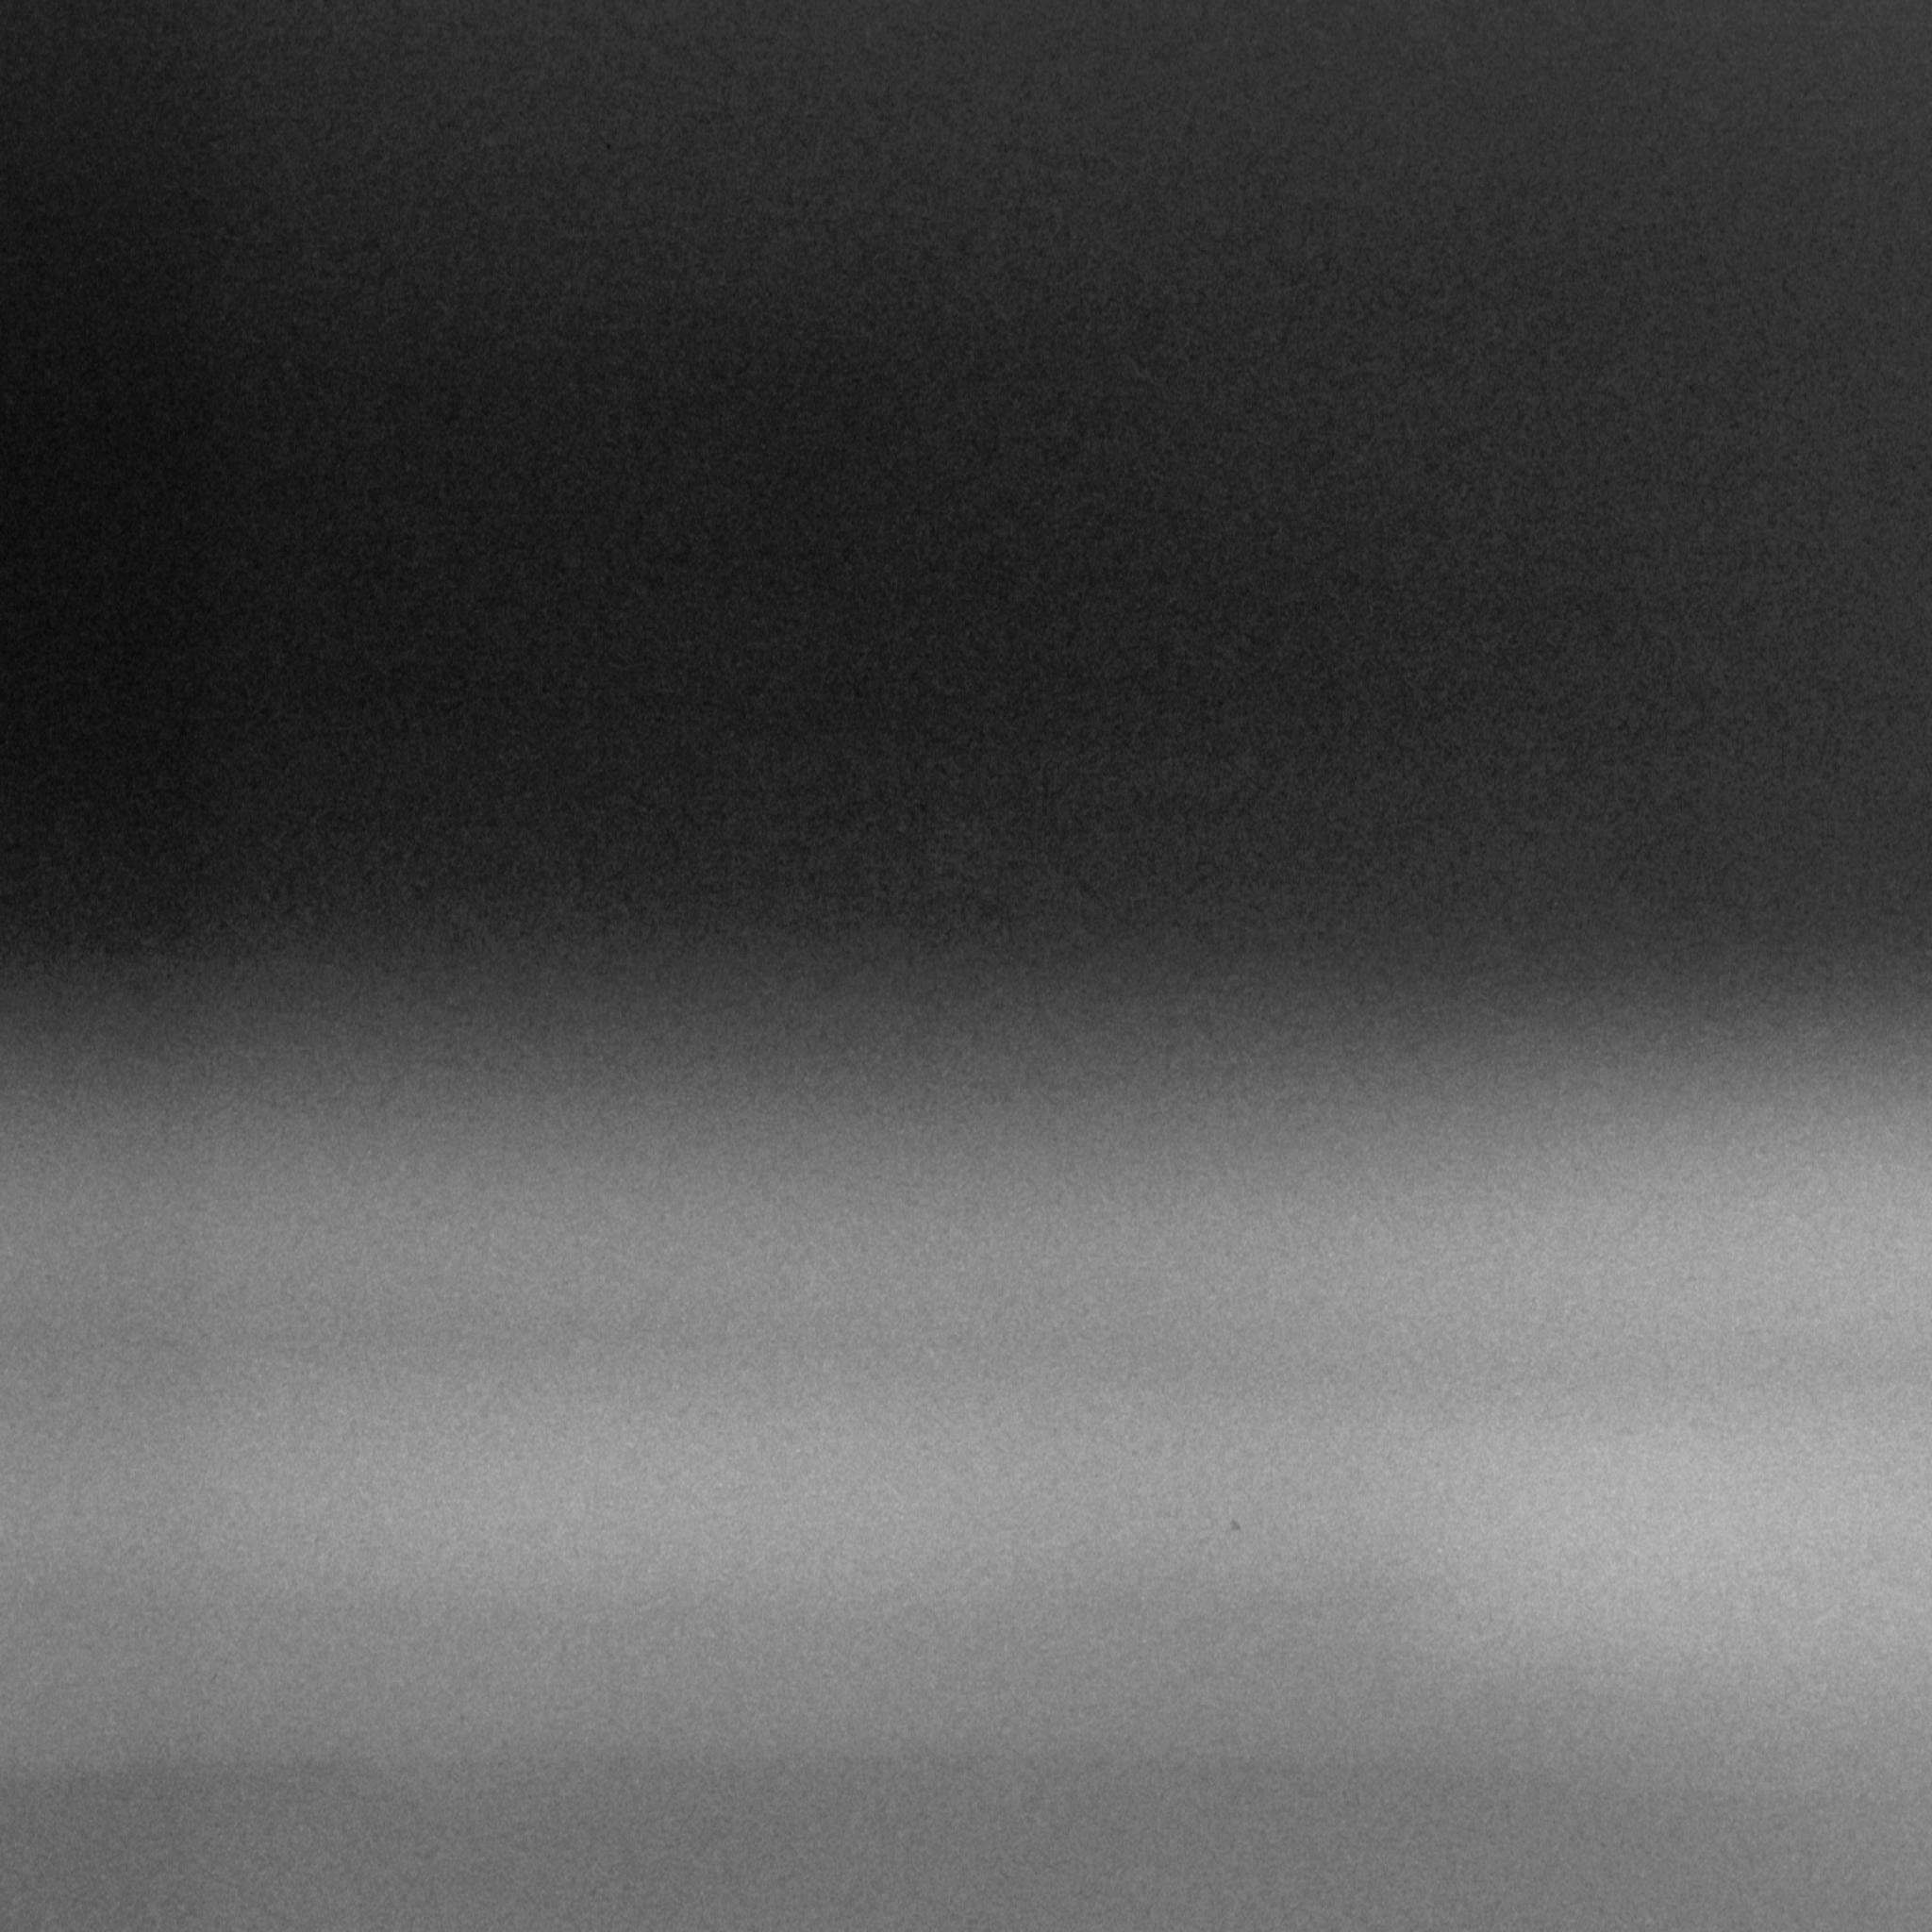PO: (1223, 1513, 1249, 1536)
